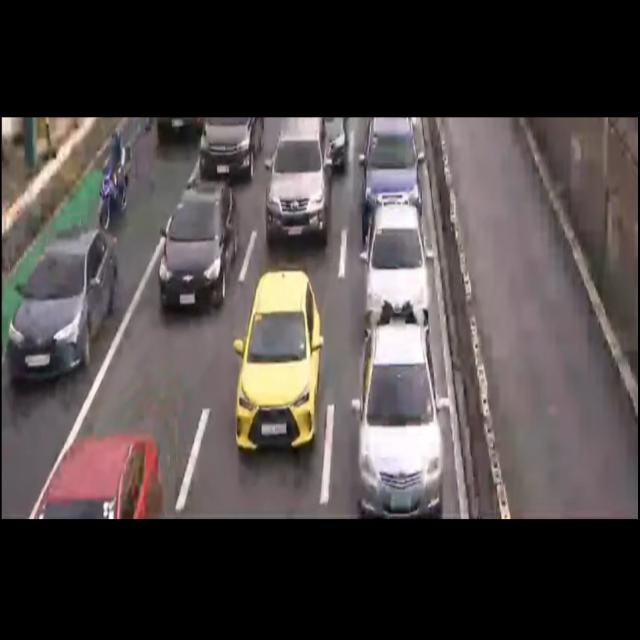Motorcycle: (99, 128, 138, 222)
SUV: (266, 121, 332, 256), (360, 120, 421, 230)
Sedan: (8, 221, 124, 378), (348, 325, 442, 514), (232, 274, 319, 445), (34, 431, 165, 519), (362, 196, 441, 336), (159, 180, 233, 300), (196, 120, 256, 184)
